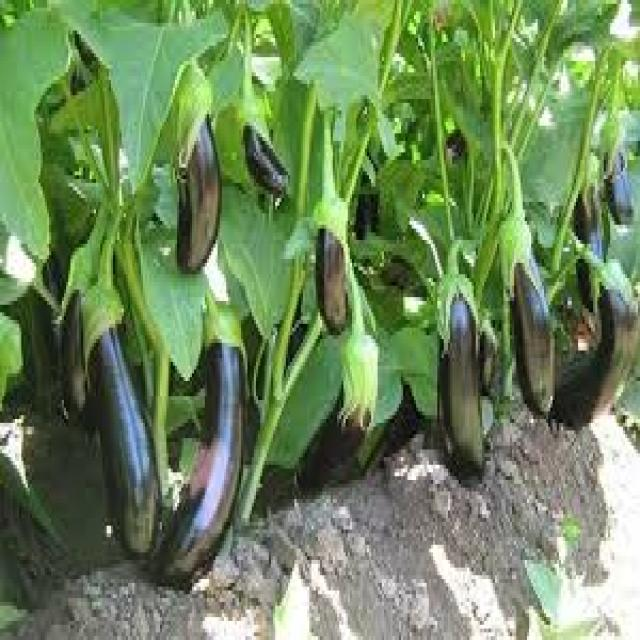eggplant: (158, 301, 245, 571), (85, 294, 158, 552), (499, 210, 553, 412), (433, 263, 482, 476), (173, 76, 222, 267), (314, 168, 346, 332), (237, 110, 288, 186)
